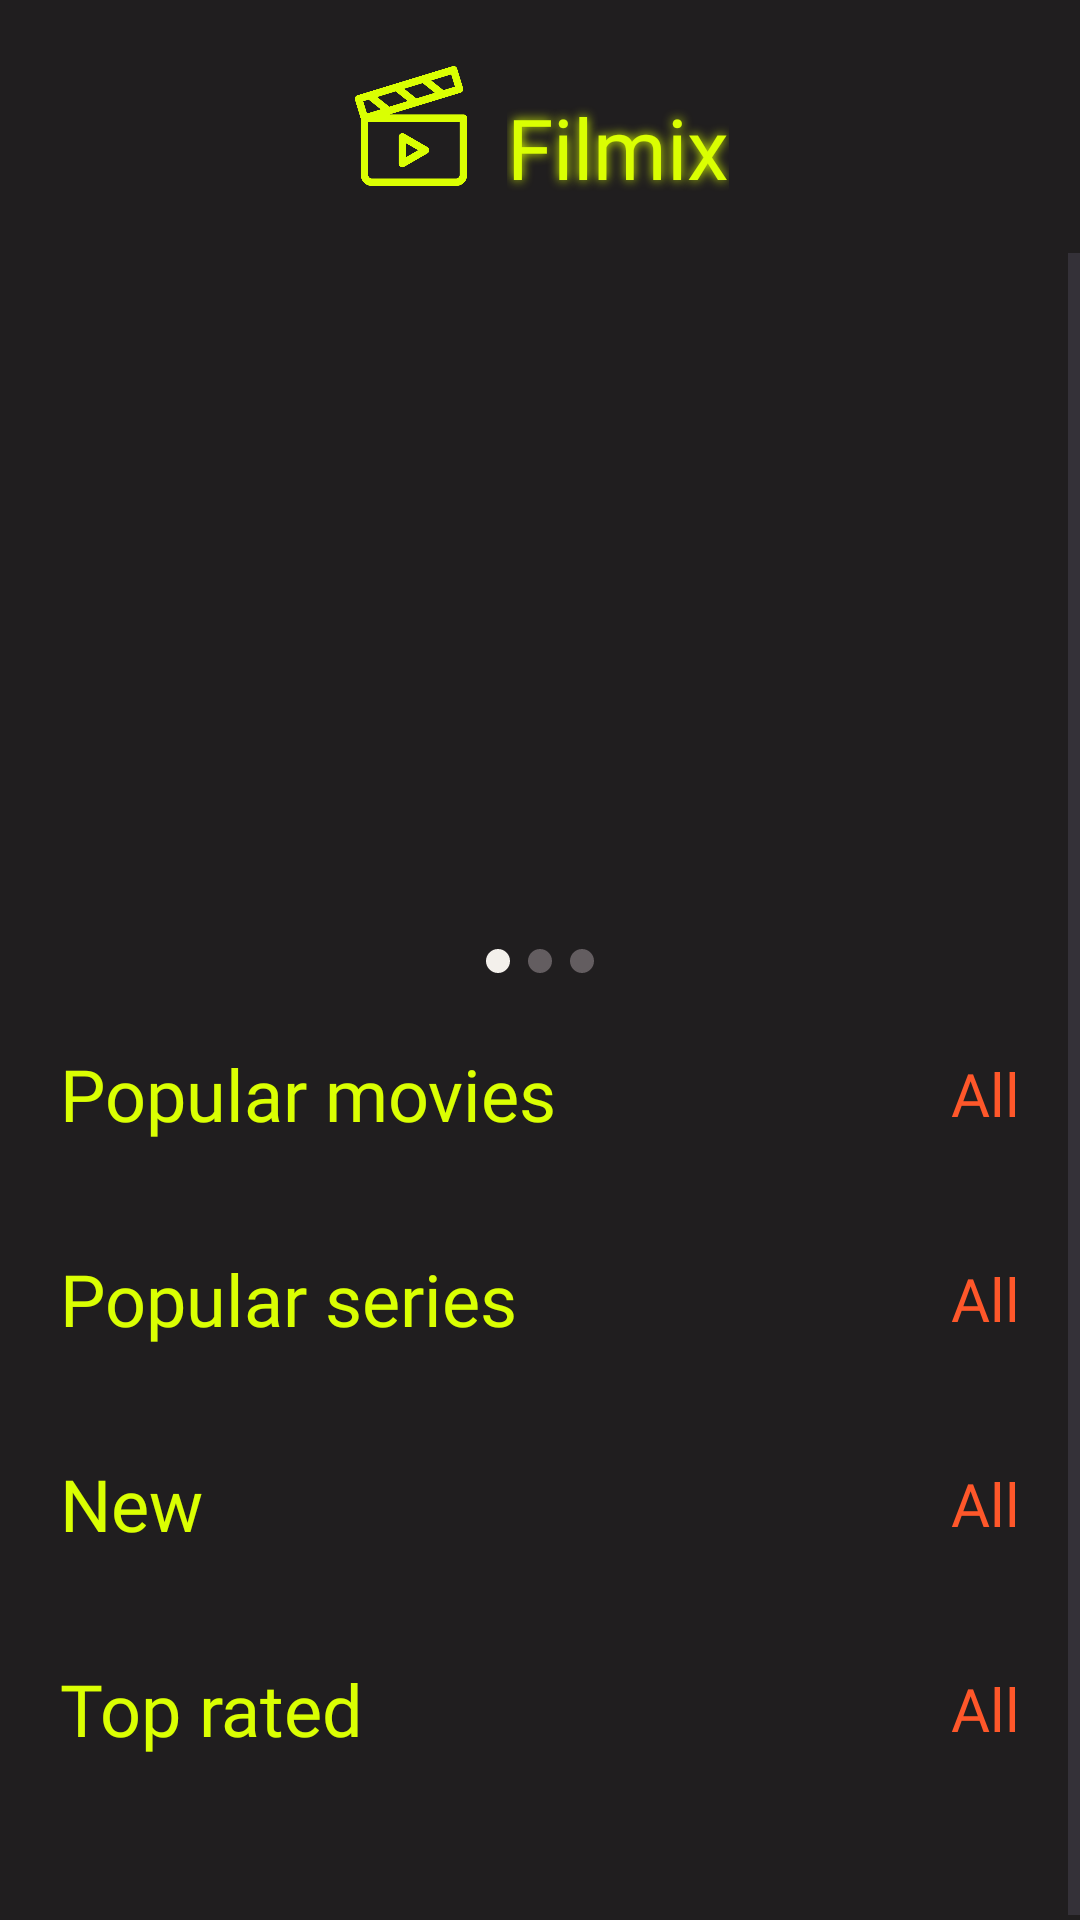

Icon click points for this 1080px x 1920px phone screenshot, format point (x, y):
clapperboard: point (411, 126)
dot: point (498, 961), point (540, 961), point (582, 961)
